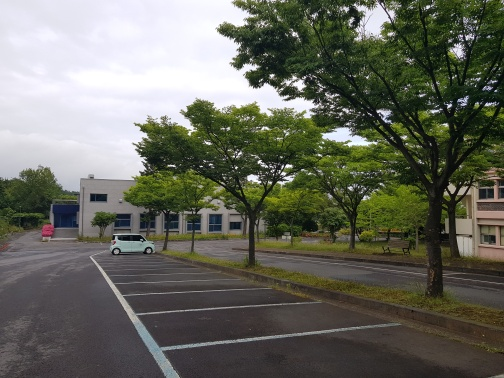College of Social Sciences: (44, 170, 261, 245)
